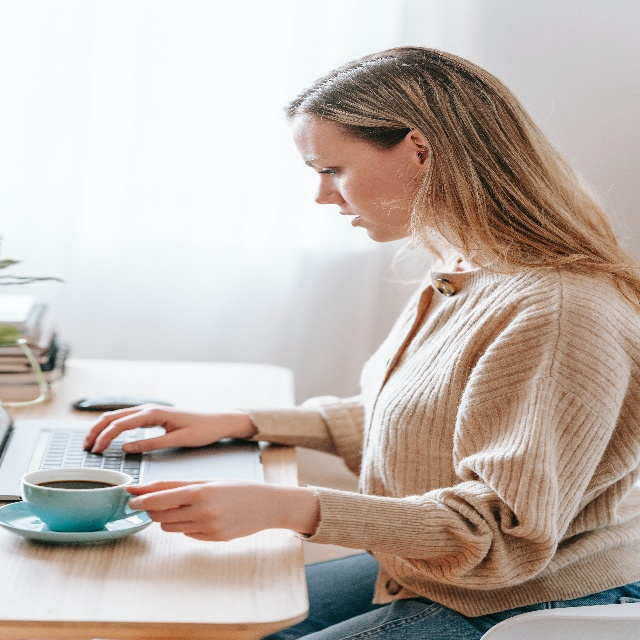Sin_guantes: (124, 478, 270, 542), (83, 402, 220, 455)
